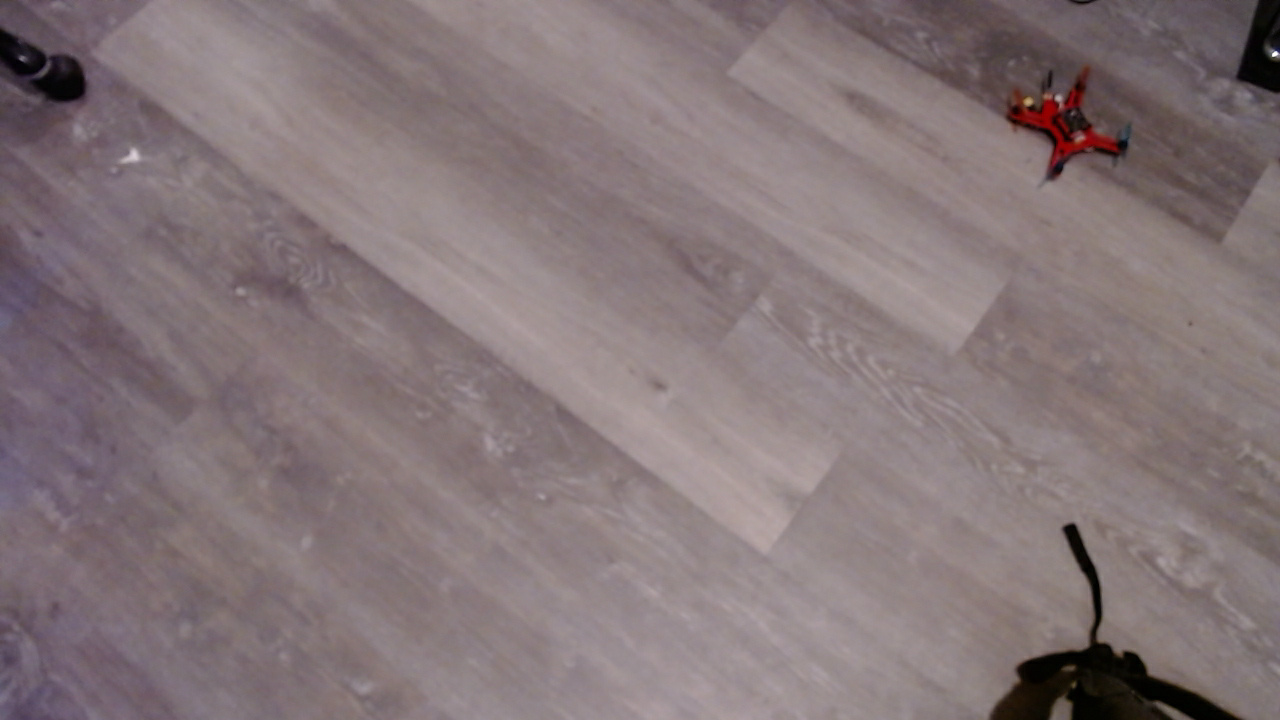crazyflie: (1010, 75, 1131, 190)
